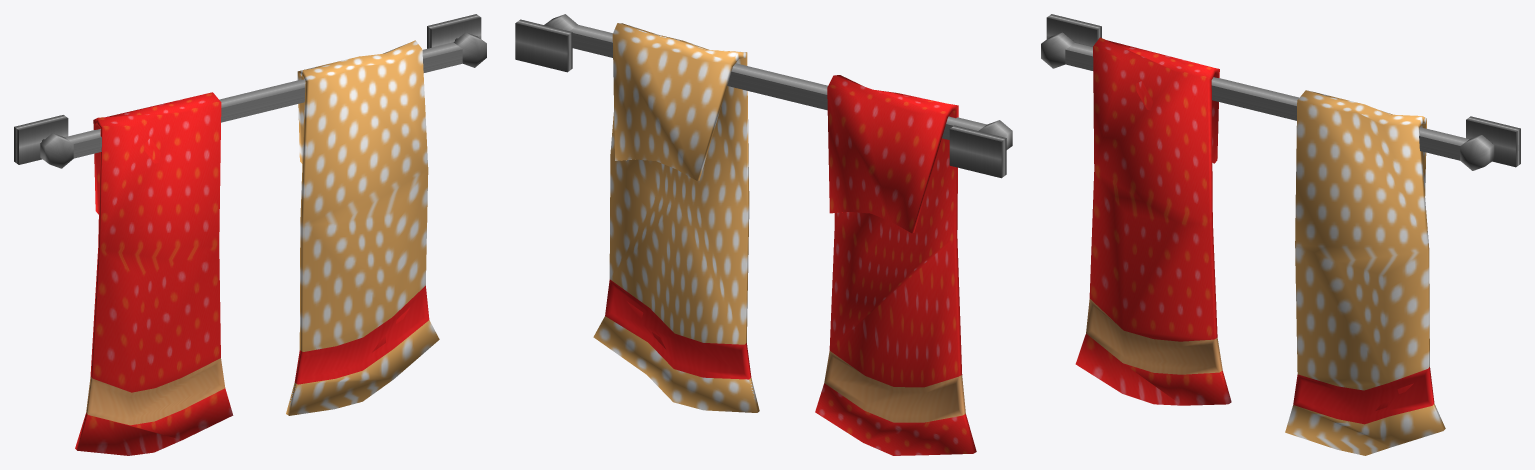
The model's file is Towel_Rack_03.FBX.
3 renders of one model, left to right at view 1: azimuth 30°, elevation 25°; view 2: azimuth 150°, elevation 25°; view 3: azimuth 330°, elevation 25°, orthographic. The views are drawn at different scales.
Visible parts, largest first — view 1: Towel_Rack; view 2: Towel_Rack; view 3: Towel_Rack.
Part boxes in pixels (<box>): Towel_Rack: <box>14,14,486,455</box>; Towel_Rack: <box>515,14,1012,455</box>; Towel_Rack: <box>1041,14,1520,455</box>.
Size of the model in its own units: 174 by 125 by 19.24.
